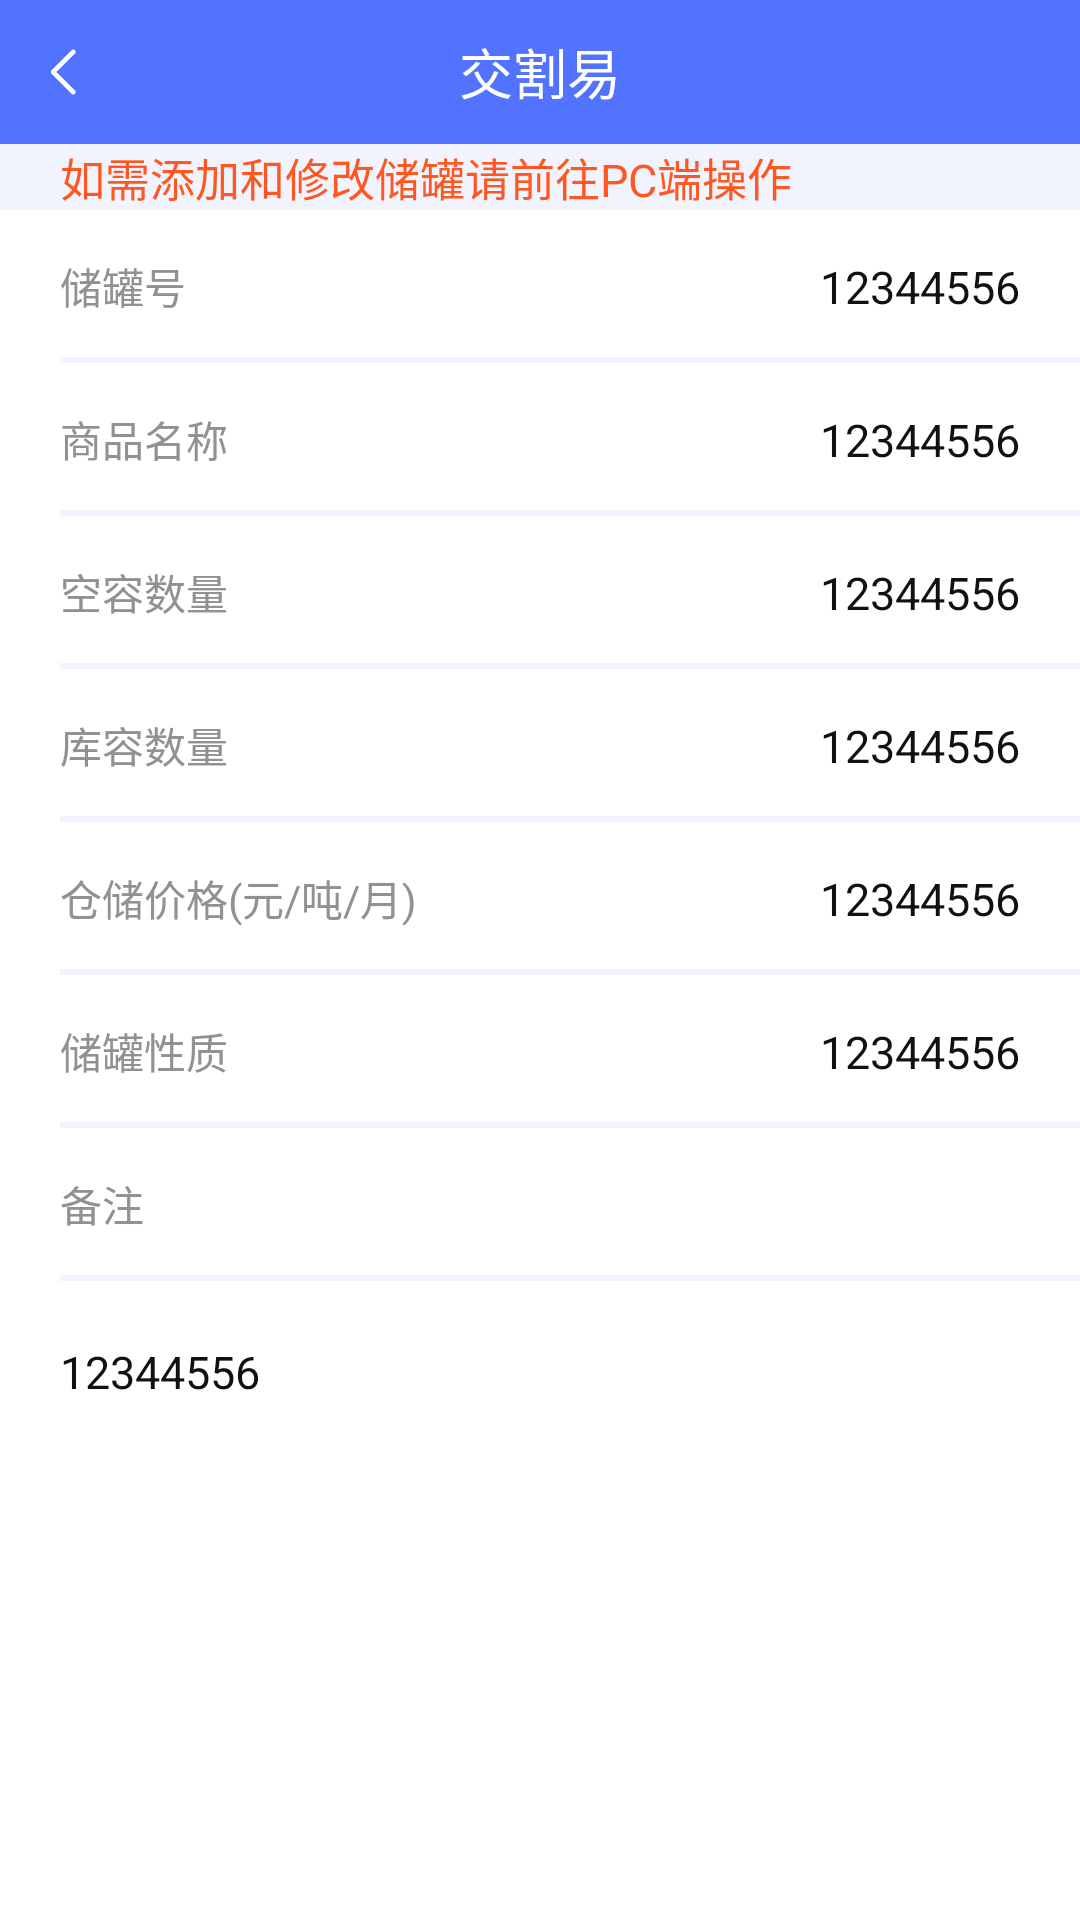

Point at icon controls on the screen. Image size 1080px x 1920px, points as (x=x, y=y).
left arrow: (x=63, y=72)
